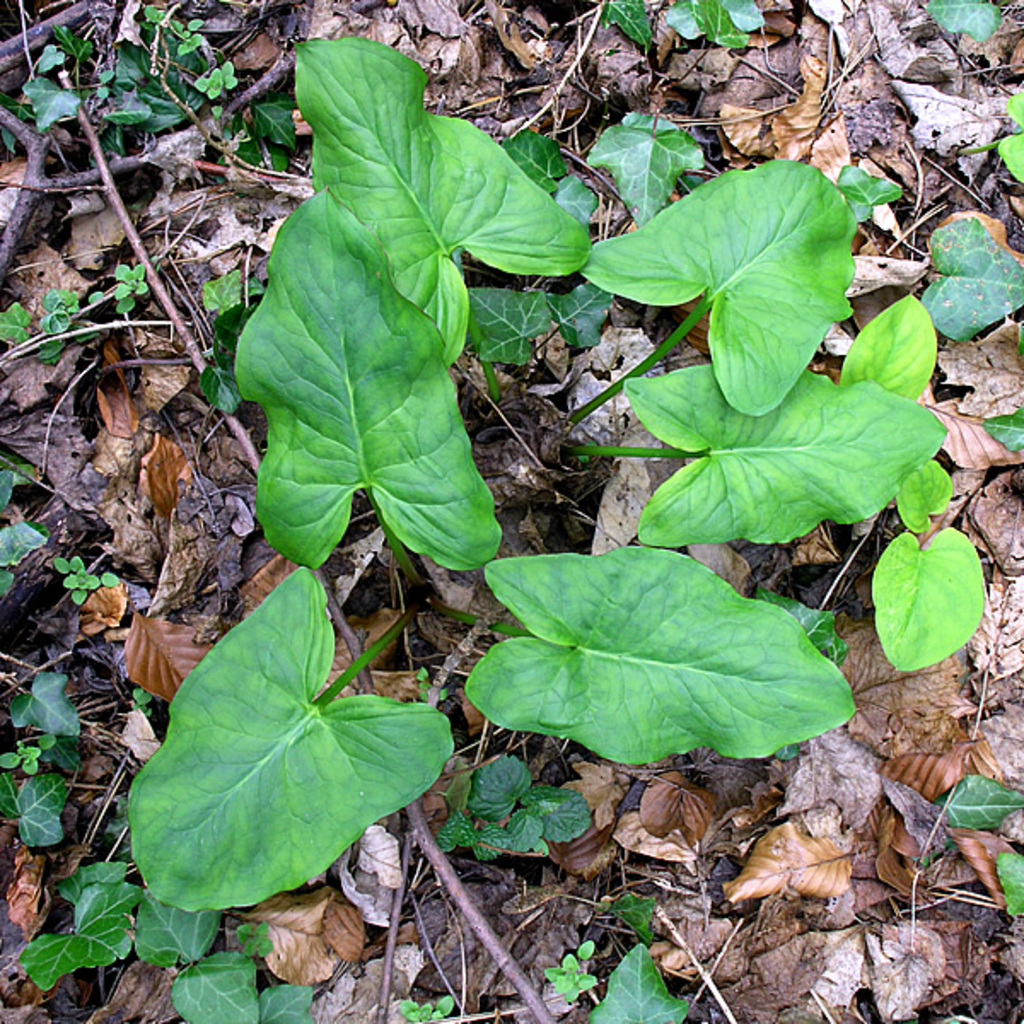person: (549, 146, 862, 459)
